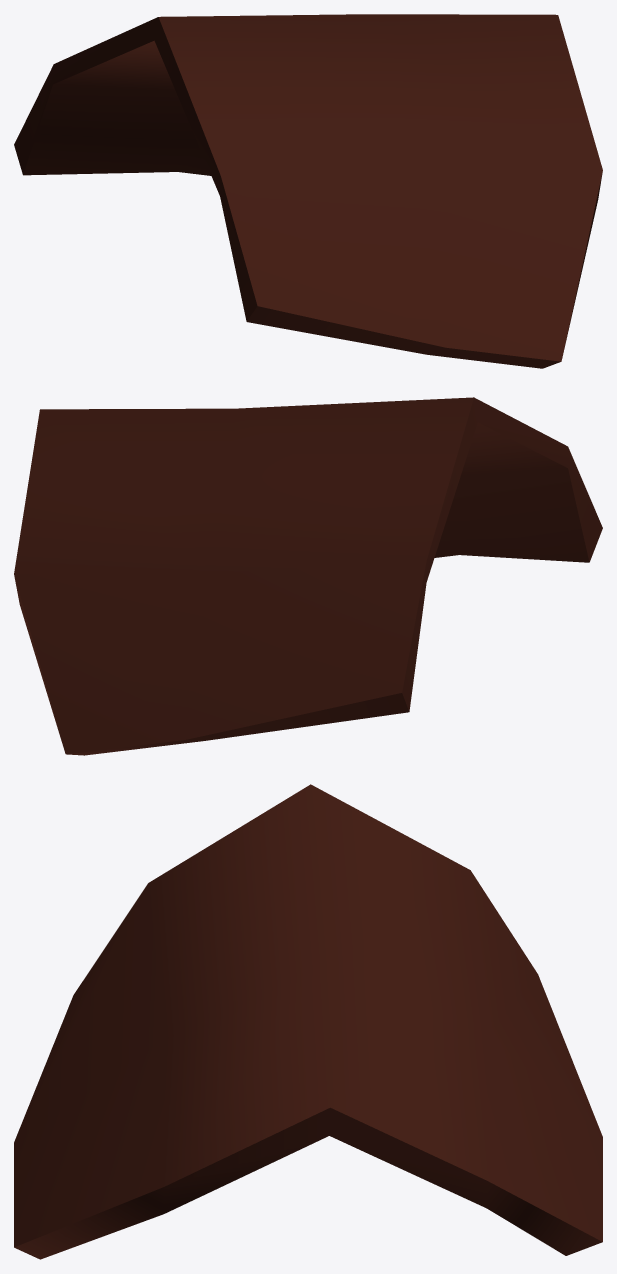
File: Shoulder_2_L.fbx
3 renders of one model, top to bottom at view 1: azimuth 30°, elevation 25°; view 2: azimuth 150°, elevation 25°; view 3: azimuth 270°, elevation 25°, orthographic. The views are drawn at different scales.
Visible parts, largest first — view 1: Shoulder_2_L; view 2: Shoulder_2_L; view 3: Shoulder_2_L.
Boxes of the visible parts, x1,y1,x2,y2 form: Shoulder_2_L: (14,14,602,368); Shoulder_2_L: (14,397,602,755); Shoulder_2_L: (14,784,602,1259).
Bounding box in the file's own units: 22.2 × 15.28 × 23.86.
